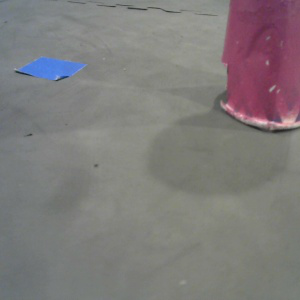right: (219, 1, 300, 130)
